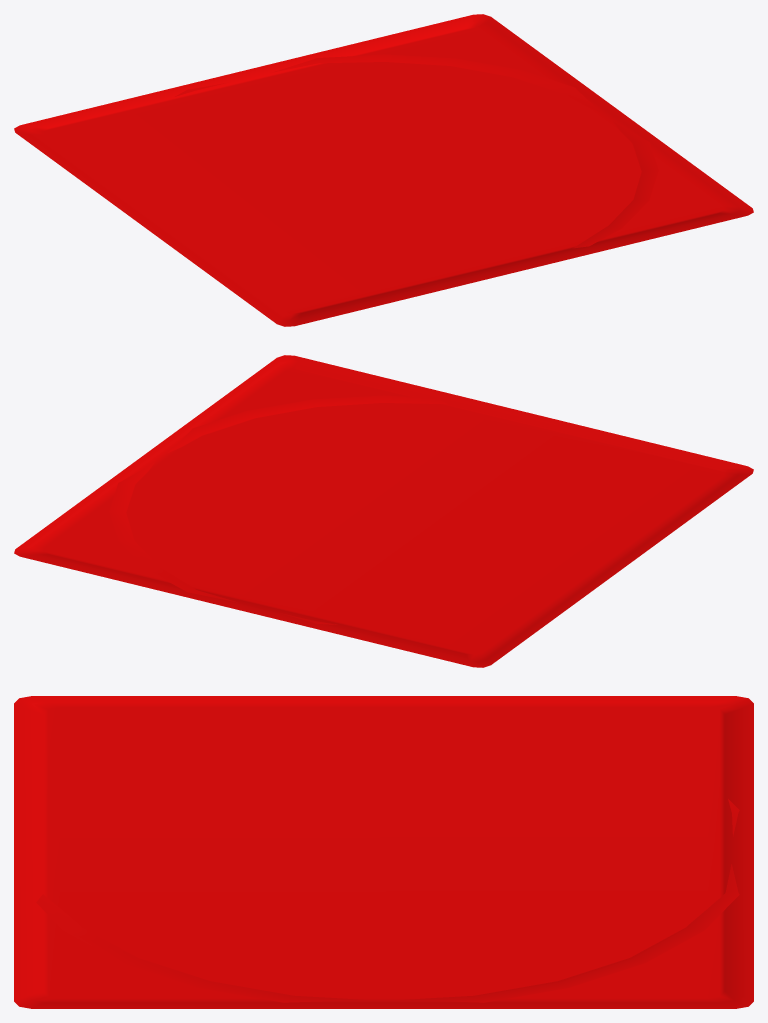
Rendered from liquid_caps_grp.fbx.
3 renders of one model, top to bottom at view 1: azimuth 30°, elevation 25°; view 2: azimuth 150°, elevation 25°; view 3: azimuth 270°, elevation 25°, orthographic. The views are drawn at different scales.
Visible parts, largest first — view 1: liquid_cap_square, liquid_cap_circle; view 2: liquid_cap_square, liquid_cap_circle; view 3: liquid_cap_square, liquid_cap_circle.
Part boxes in pixels (<box>): liquid_cap_square: <box>14,14,753,326</box>; liquid_cap_circle: <box>175,54,658,248</box>; liquid_cap_square: <box>14,355,753,667</box>; liquid_cap_circle: <box>109,395,447,624</box>; liquid_cap_square: <box>14,696,753,1008</box>; liquid_cap_circle: <box>36,799,739,1002</box>.
Size of the model in its own units: 10 by 0.1309 by 10.
